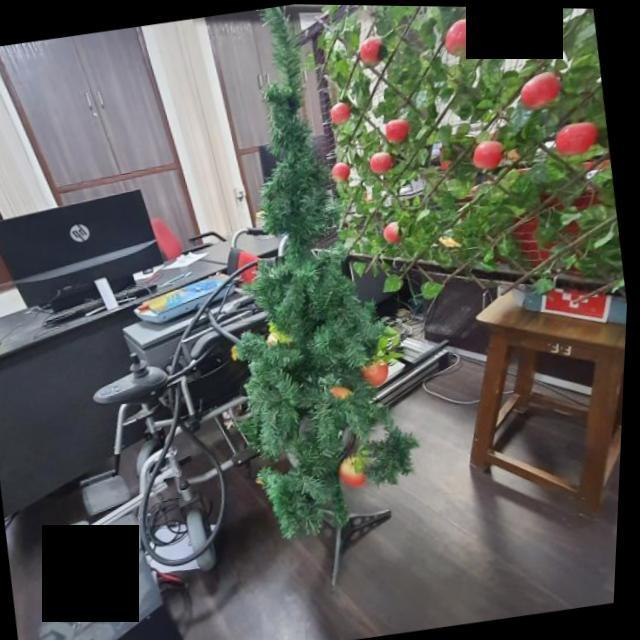Tree: (181, 4, 454, 584)
